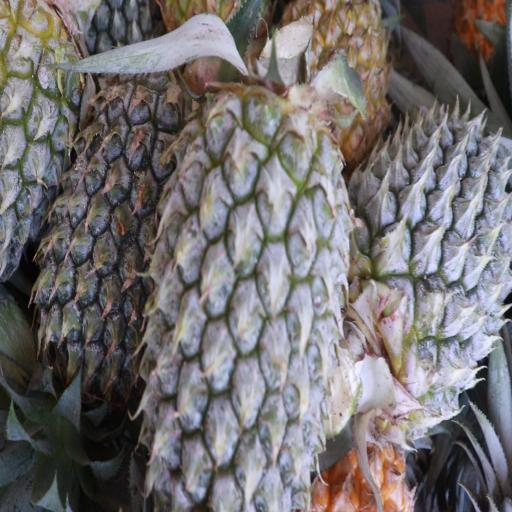Pineapple - v8 v1: (284, 0, 390, 145)
